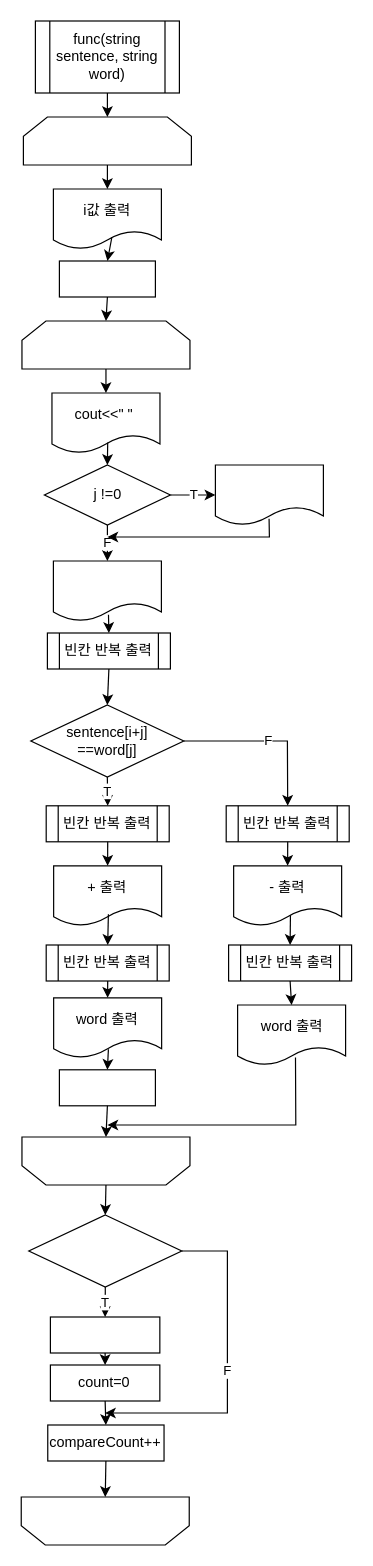
This 373x1566 diagram has some shape labels left out. Here are the shapes that lost their labels. From the top down, the centre of each, then its label:
point 106,140: int i: 0,1, 두 문장 길이 차
point 106,278: int count = 0
point 105,344: int j: 0,1, 비교 단어 길이
point 268,494: 빈칸 출력
point 106,590: sentence출력
point 106,1087: count++
point 105,1250: count== word.size()
point 104,1334: matchCount++
